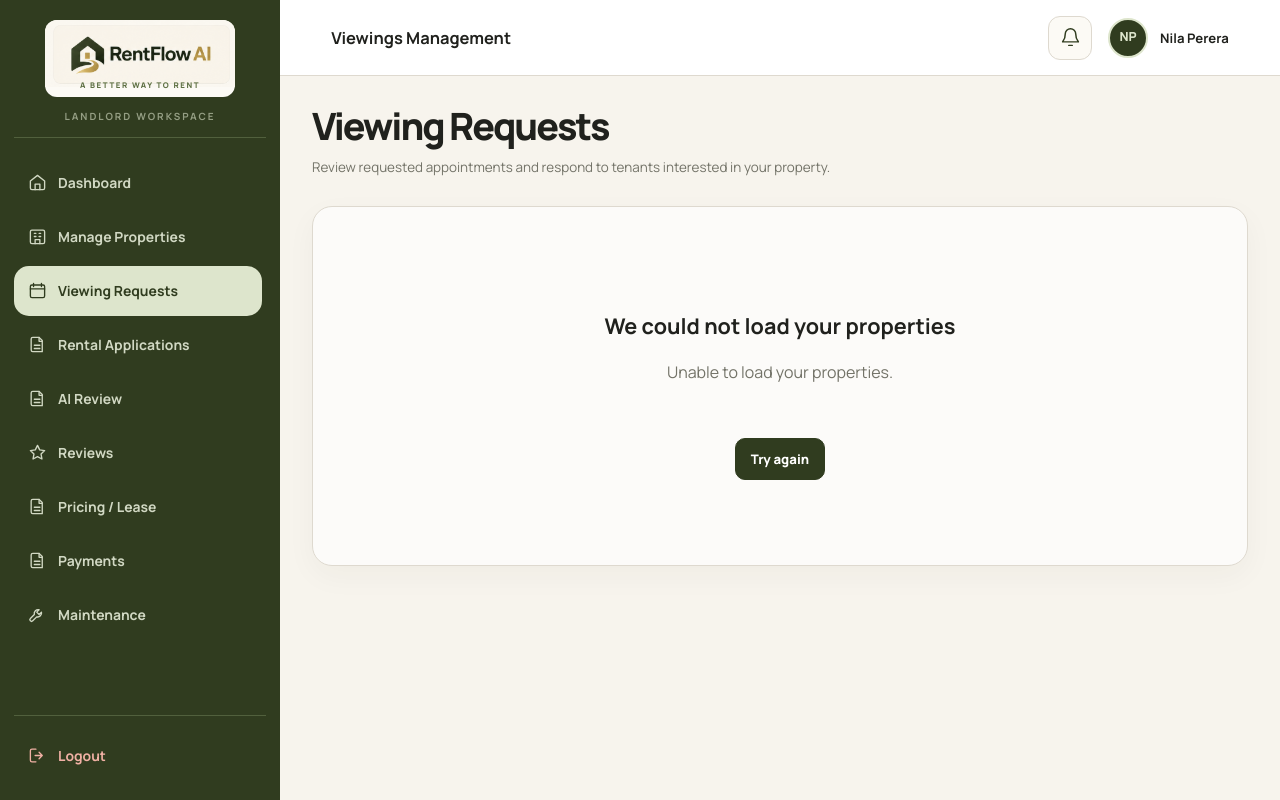
Scenario: owned property landlord workflow integration › retries an owned-property API error and then offers the real selection
This screenshot has width=1280, height=800.
Expected: the heading "We could not load your properties" is shown, [604,311,956,340]
Click the button "Try again". click: (780, 459)
box: [735,438,825,480]
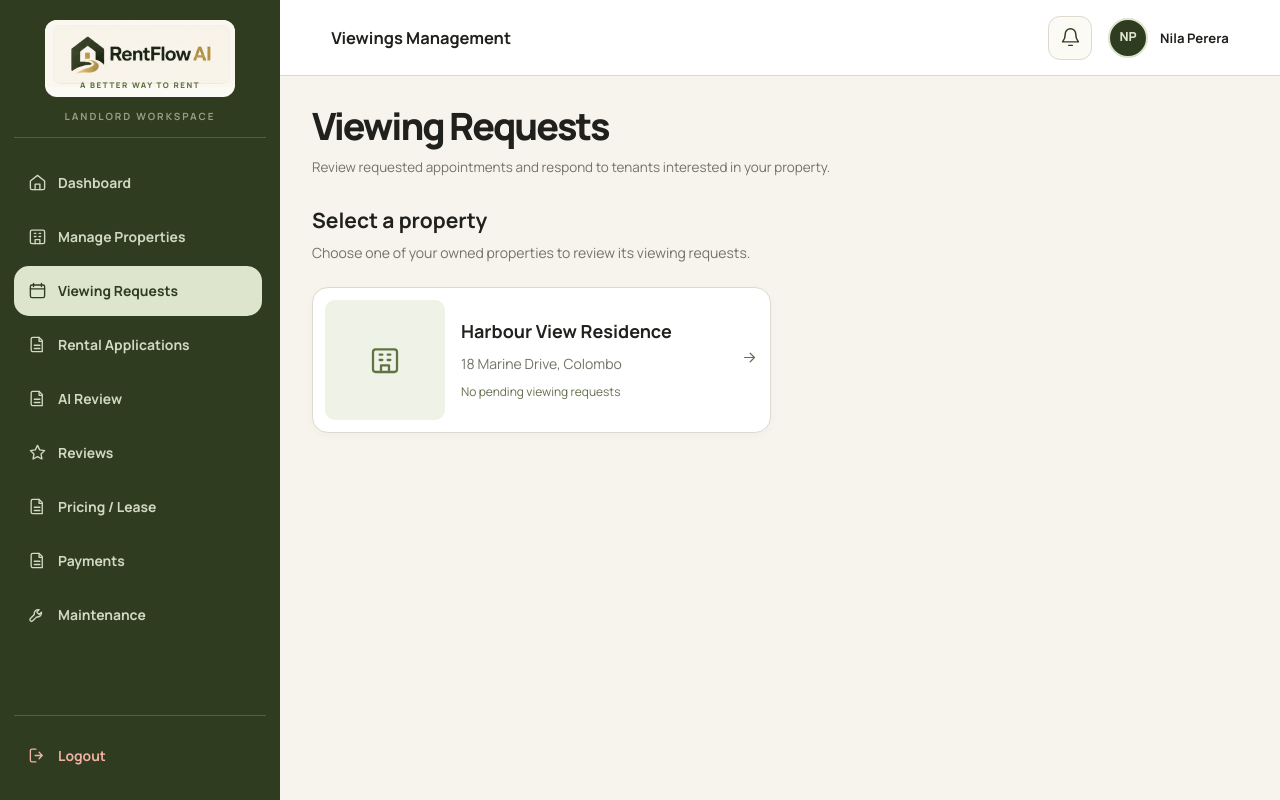
Result: the button "Harbour View Residence" is shown at [312,287,771,433]
